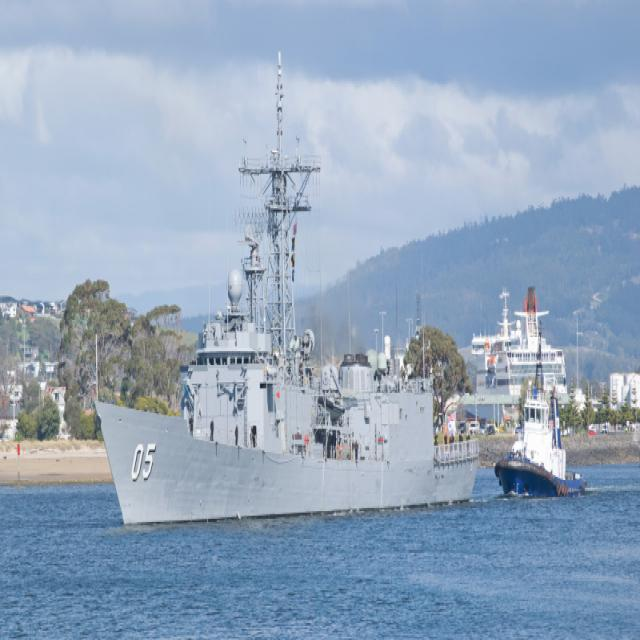Fragata: (90, 48, 485, 542)
